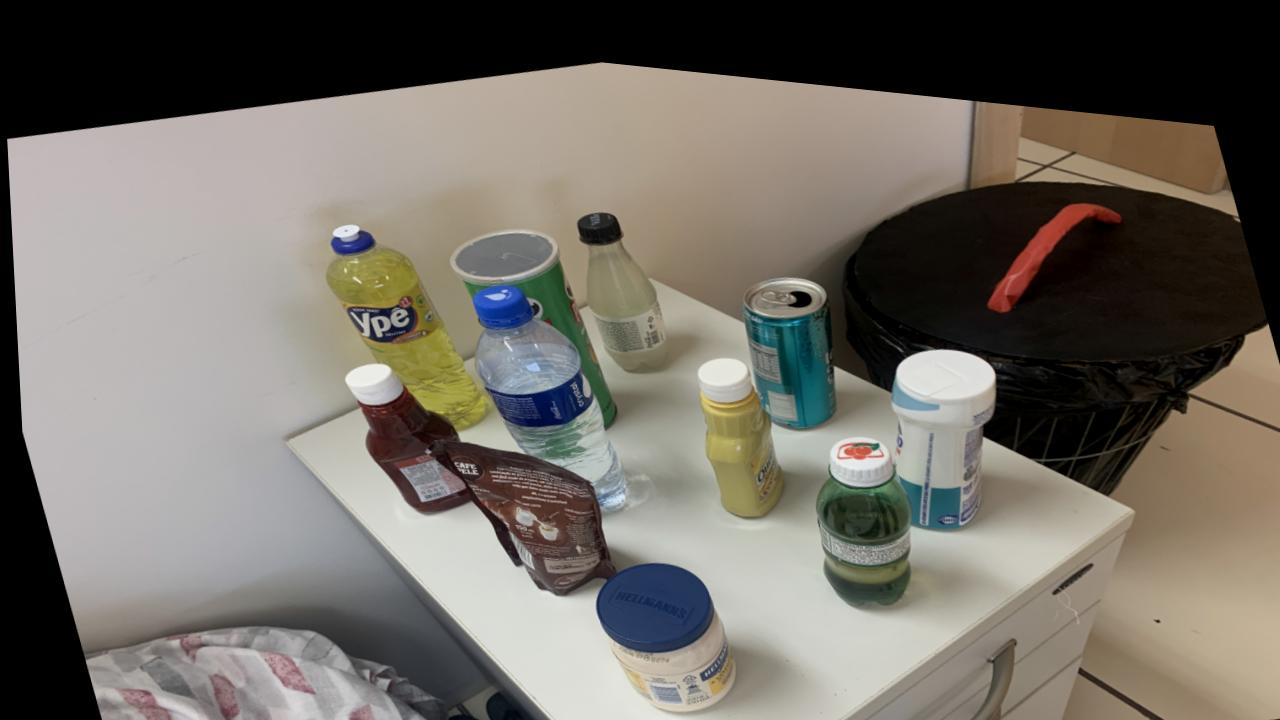Cleaner-Cleanup_Items: (887, 328, 994, 510)
Coffee-Pantry_Items: (426, 429, 611, 584)
Detergent-Cleanup_Items: (323, 218, 483, 419)
Guarana-Drinks: (811, 417, 907, 588)
Ketchup-Pantry_Items: (342, 355, 464, 503)
Mayonnaise-Pantry_Items: (589, 548, 730, 698)
Mustard-Pantry_Items: (693, 342, 779, 501)
Pringles-Snacks: (447, 217, 613, 413)
Soda-Drinks: (575, 198, 665, 359)
Tea-Drinks: (739, 260, 833, 411)
Water_Bottle-Drinks: (470, 272, 622, 496)
